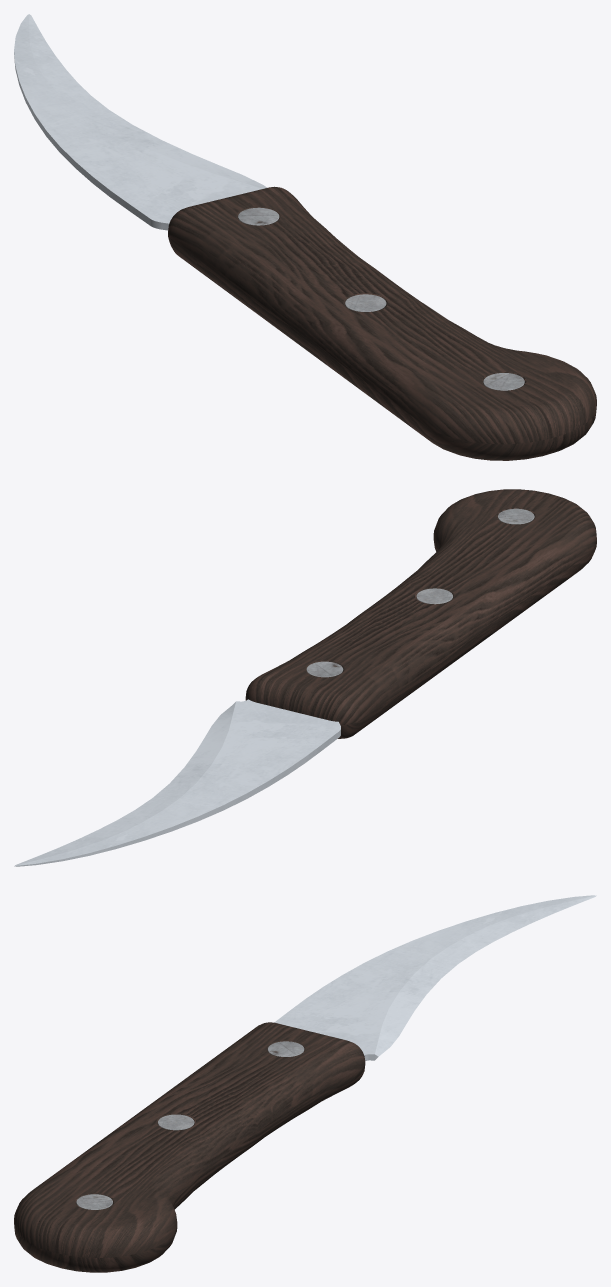
The model's file is knife-hook.fbx.
3 renders of one model, top to bottom at view 1: azimuth 30°, elevation 25°; view 2: azimuth 150°, elevation 25°; view 3: azimuth 330°, elevation 25°, orthographic. The views are drawn at different scales.
Parts seen in each view (by area): view 1: kniofe_hook; view 2: kniofe_hook; view 3: kniofe_hook.
Boxes of the visible parts, box(x1,y1,x2,y2) form: kniofe_hook: box(14, 14, 596, 460); kniofe_hook: box(14, 489, 596, 866); kniofe_hook: box(14, 895, 596, 1272).
Size of the model in its own units: 1.74 by 0.5142 by 10.61.
